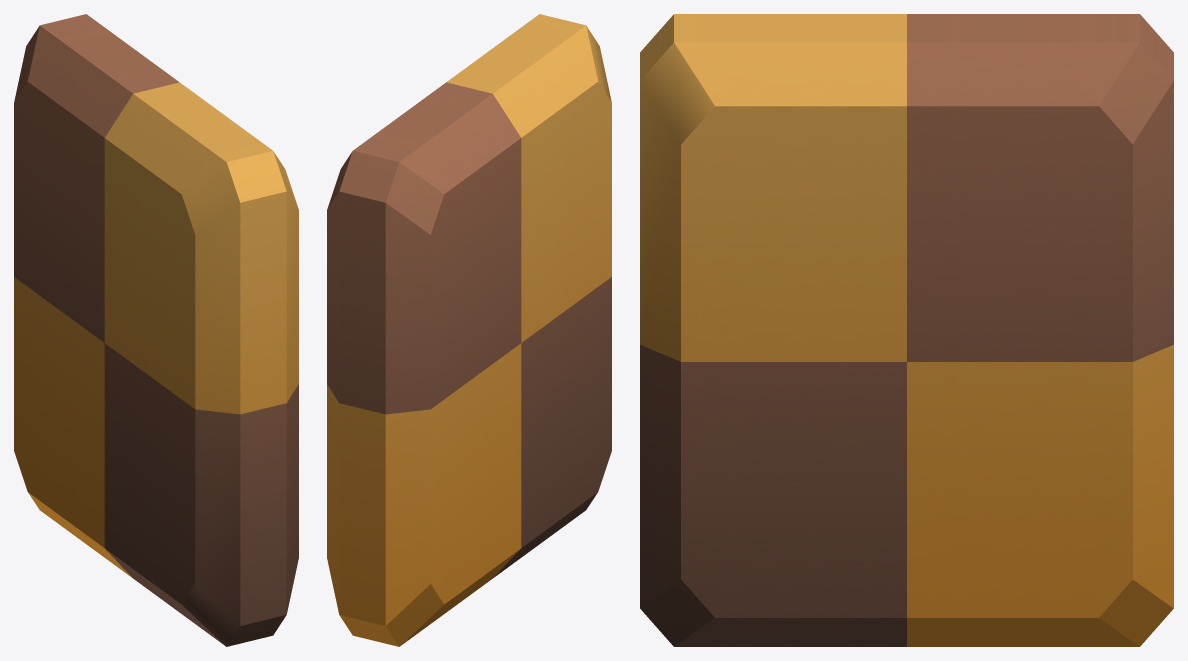
Rendered from HPart_Biscuit2_Whole.fbx.
3 views of the same model, side by side, from view 1: azimuth 30°, elevation 25°; view 2: azimuth 150°, elevation 25°; view 3: azimuth 270°, elevation 25° (orthographic). The views are drawn at different scales.
Visible parts, largest first — view 1: biscuit2wip; view 2: biscuit2wip; view 3: biscuit2wip.
Part boxes in pixels (left/top/right/bottom): biscuit2wip: left=14, top=14, right=298, bottom=646; biscuit2wip: left=327, top=14, right=611, bottom=646; biscuit2wip: left=640, top=14, right=1173, bottom=646.
Bounding box in the file's own units: 0.2795 × 1.25 × 1.
